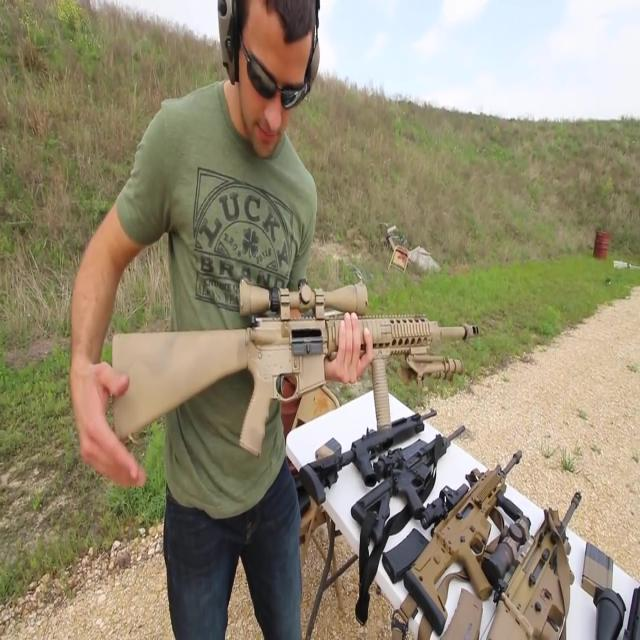Weapon: (215, 319, 626, 640), (93, 253, 516, 503)
